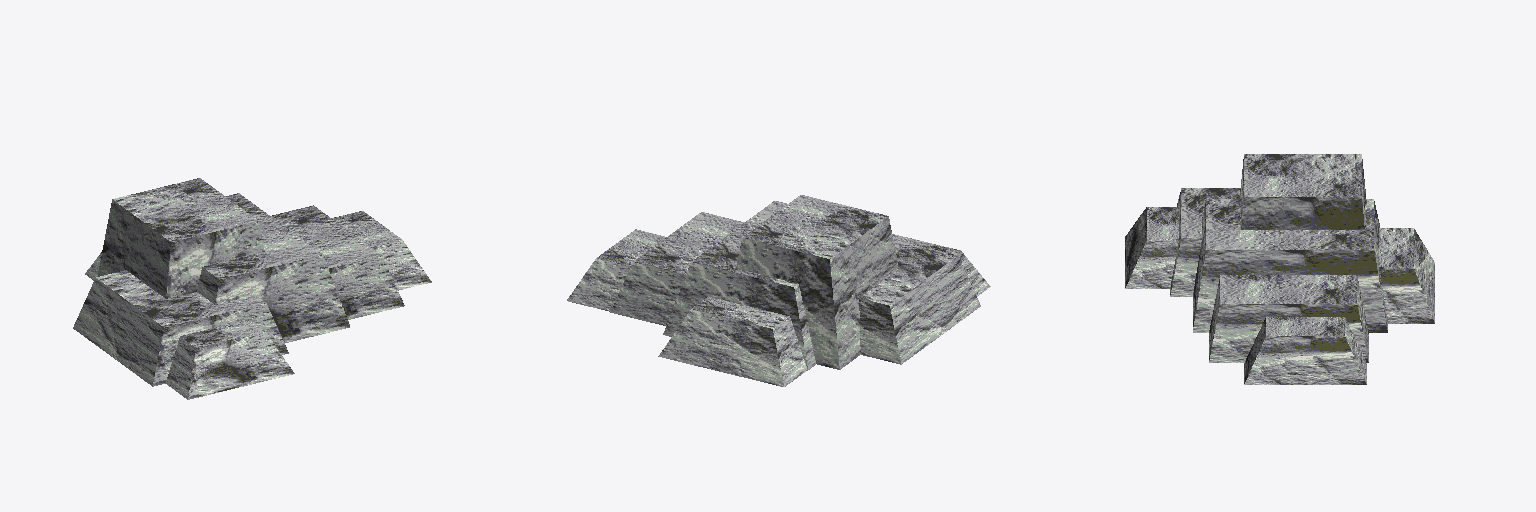
The picture shows the model from 3 angles: view 1: azimuth 30°, elevation 25°; view 2: azimuth 150°, elevation 25°; view 3: azimuth 270°, elevation 25°; orthographic projection.
Parts seen in each view (by area): view 1: SM_Env_Rock_Brown_02_Mesh; view 2: SM_Env_Rock_Brown_02_Mesh; view 3: SM_Env_Rock_Brown_02_Mesh.
Boxes of the visible parts, <box> form: SM_Env_Rock_Brown_02_Mesh: <box>73,178,431,399</box>; SM_Env_Rock_Brown_02_Mesh: <box>567,195,990,386</box>; SM_Env_Rock_Brown_02_Mesh: <box>1125,154,1434,384</box>.
Size of the model in its own units: 3.12 by 0.9766 by 2.64.
1 materials, 1 textured.